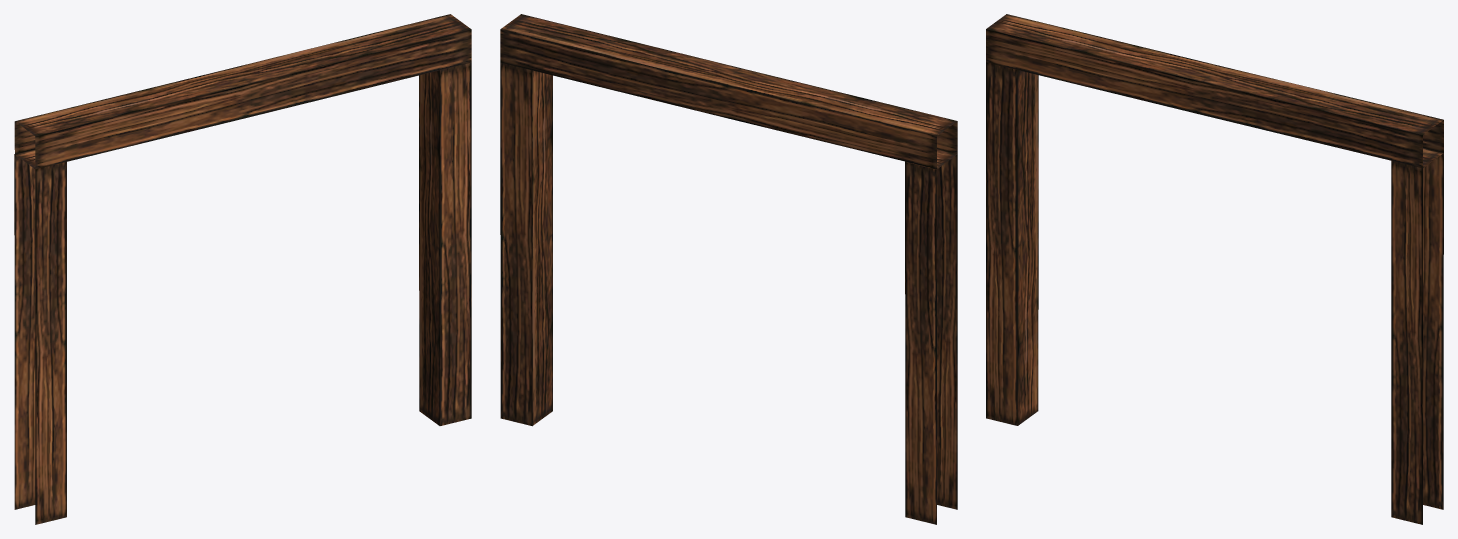
The model's file is LAKETOWN_WAREHOUSE2_PS_WH2_PUB_DOORARCH_373756.fbx.
3 renders of one model, left to right at view 1: azimuth 30°, elevation 25°; view 2: azimuth 150°, elevation 25°; view 3: azimuth 330°, elevation 25°, orthographic.
Visible parts, largest first — view 1: LAKETOWN_WAREHOUSE2_PS_WH2_PUB_DOORARCH_373756; view 2: LAKETOWN_WAREHOUSE2_PS_WH2_PUB_DOORARCH_373756; view 3: LAKETOWN_WAREHOUSE2_PS_WH2_PUB_DOORARCH_373756.
Boxes of the visible parts, x1,y1,x2,y2 form: LAKETOWN_WAREHOUSE2_PS_WH2_PUB_DOORARCH_373756: [14, 14, 471, 524]; LAKETOWN_WAREHOUSE2_PS_WH2_PUB_DOORARCH_373756: [500, 14, 957, 524]; LAKETOWN_WAREHOUSE2_PS_WH2_PUB_DOORARCH_373756: [986, 14, 1443, 524].
Bounding box in the file's own units: 23858 × 20342 × 1990.
1 material, 1 textured.
